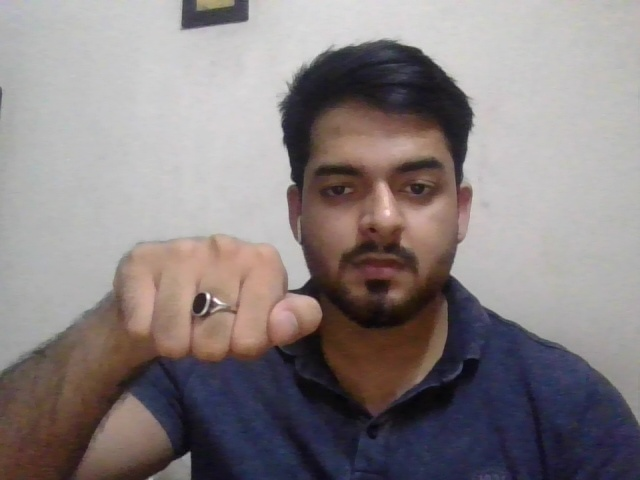yes: (112, 233, 324, 364)
